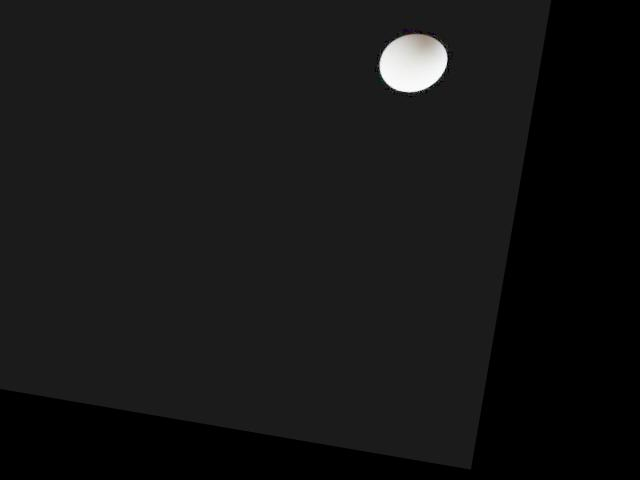egg: (376, 28, 451, 98)
